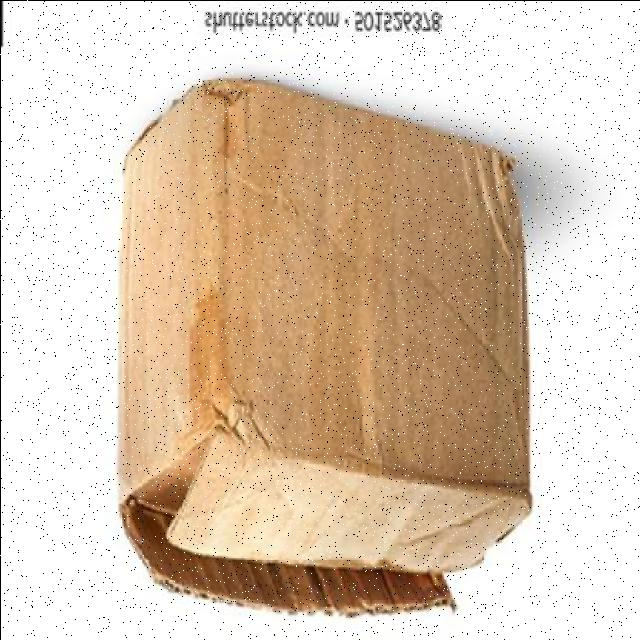defect: (105, 68, 528, 620)
